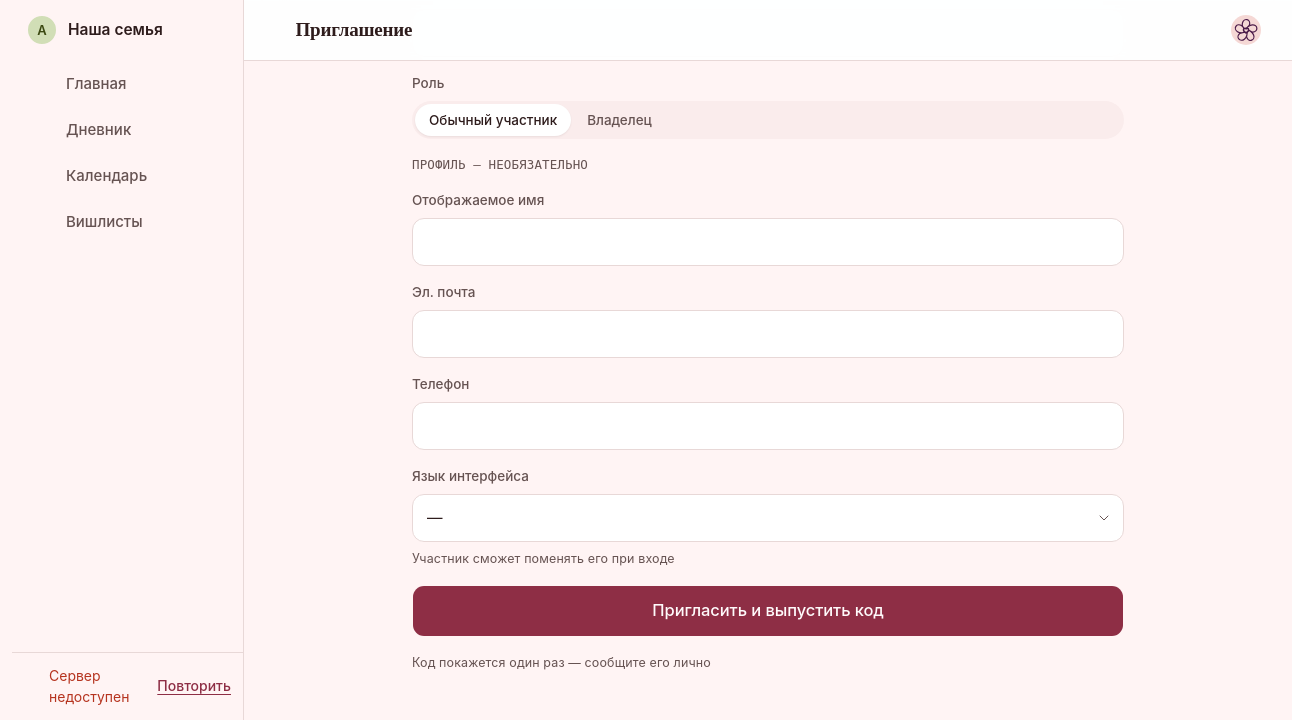
Test: InviteMemberScreen › refuses an empty name
(page scrolled)
What coordinates should you click on to do the following:
click the button "Пригласить и выпустить код"
I would click on:
 (768, 611)
Its box is [412, 585, 1124, 637].
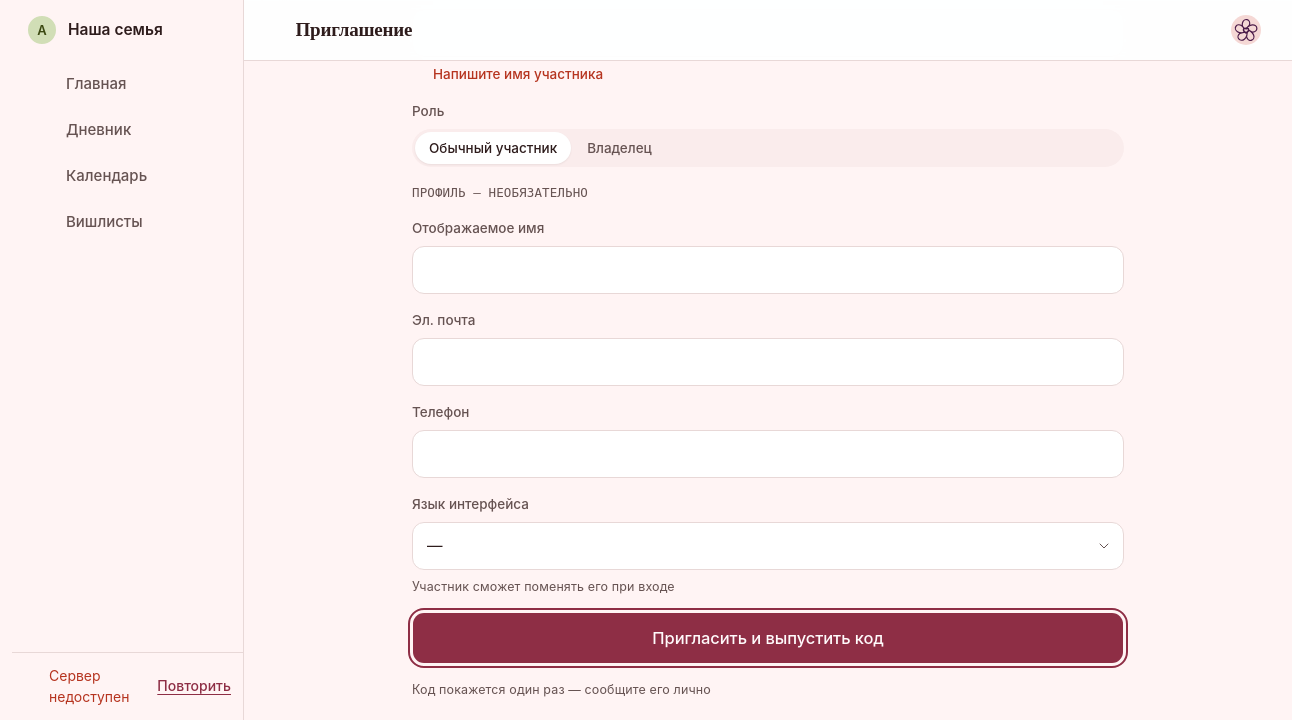
Now the text "Напишите имя участника" is shown, box [433, 64, 603, 85]
